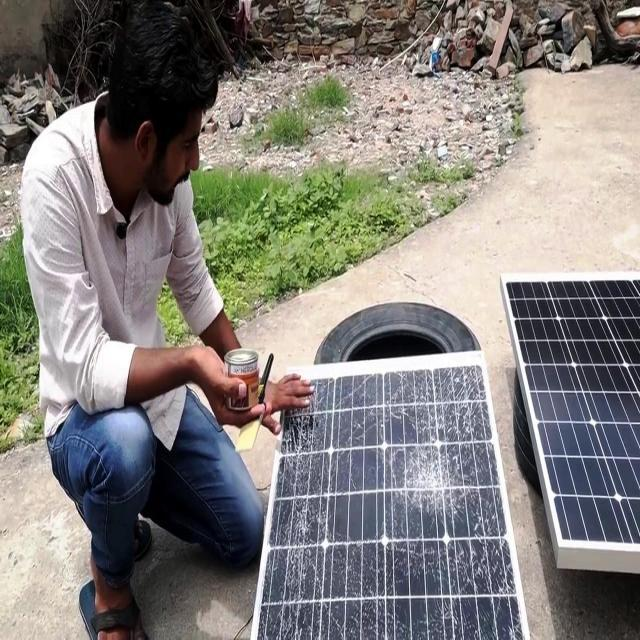faulty: (254, 363, 526, 640)
no faulty: (504, 276, 640, 548)
